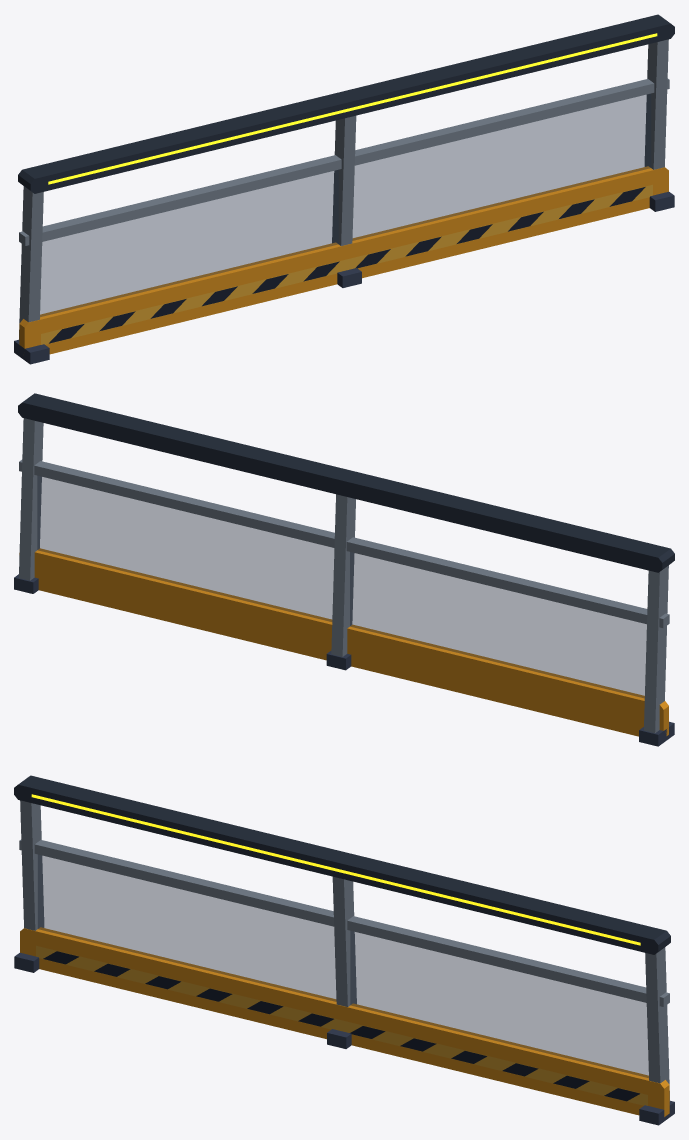
Rendered from fus_catwalk_railing.glb.
3 renders of one model, top to bottom at view 1: azimuth 30°, elevation 25°; view 2: azimuth 150°, elevation 25°; view 3: azimuth 330°, elevation 25°, orthographic.
Parts seen in each view (by area): view 1: lower_glass, toe_kick, mid_rail, handrail, warning_band, slash, handrail_led, anchor_shoe; view 2: lower_glass, toe_kick, mid_rail, handrail, anchor_shoe; view 3: lower_glass, toe_kick, mid_rail, handrail, warning_band, slash, handrail_led, anchor_shoe.
Part boxes in pixels (left/top/right/bottom): lower_glass: left=40, top=94, right=650, bottom=316; toe_kick: left=19, top=166, right=668, bottom=354; mid_rail: left=19, top=39, right=669, bottom=340; handrail: left=18, top=14, right=674, bottom=193; warning_band: left=41, top=184, right=652, bottom=344; slash: left=49, top=187, right=645, bottom=343; handrail_led: left=48, top=33, right=657, bottom=184; anchor_shoe: left=14, top=191, right=674, bottom=364; lower_glass: left=37, top=476, right=646, bottom=697; toe_kick: left=19, top=548, right=668, bottom=736; mid_rail: left=19, top=418, right=669, bottom=733; handrail: left=18, top=393, right=674, bottom=572; anchor_shoe: left=14, top=574, right=674, bottom=746; lower_glass: left=38, top=855, right=648, bottom=1077; toe_kick: left=20, top=927, right=669, bottom=1116; mid_rail: left=19, top=800, right=669, bottom=1101; handrail: left=14, top=775, right=670, bottom=954; warning_band: left=36, top=945, right=647, bottom=1105; slash: left=43, top=951, right=639, bottom=1101; handrail_led: left=31, top=794, right=640, bottom=945; anchor_shoe: left=14, top=952, right=674, bottom=1125.
Bounding box in the file's own units: 4 × 1.1 × 0.18.
